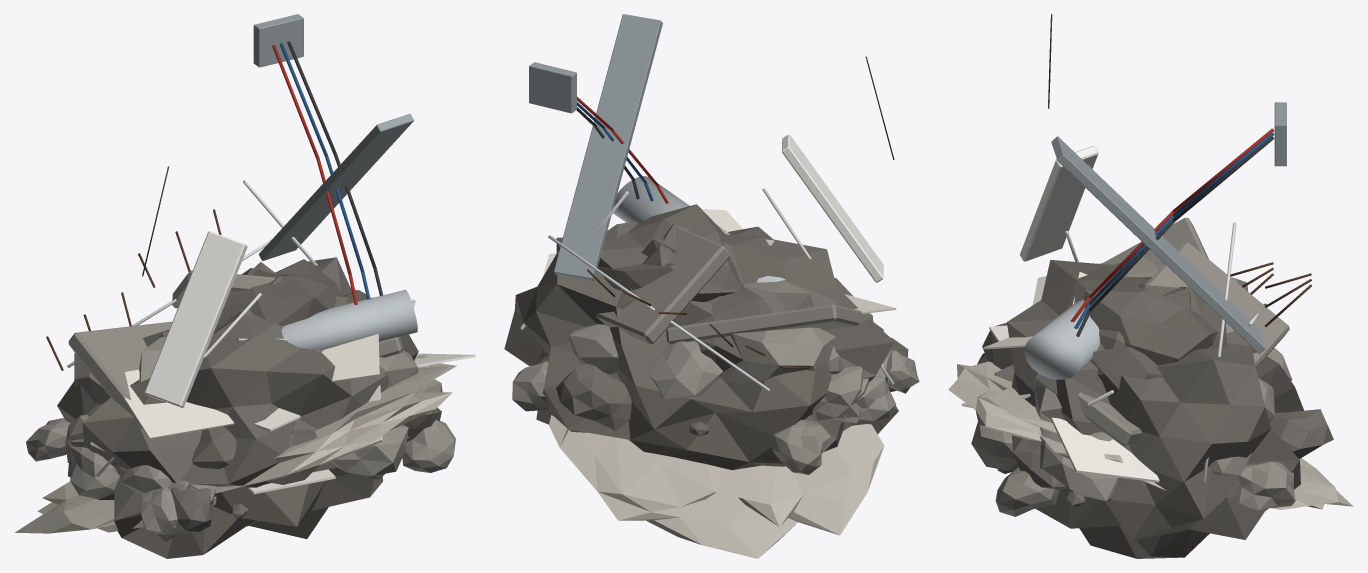
Rendered from ceiling_collapse.glb.
The picture shows the model from 3 angles, left to right: view 1: azimuth 30°, elevation 25°; view 2: azimuth 150°, elevation 25°; view 3: azimuth 270°, elevation 25°; orthographic projection. The views are drawn at different scales.
Visible parts, largest first — view 1: Collapse_core, Collapse_skirt, Collapse_fitting, Collapse_duct, Collapse_tray, Collapse_rock15, Collapse_slab0, Collapse, Collapse_plaster1, Collapse_bracket, Collapse_rock23, Collapse_rock29 (+13 smaller); view 2: Collapse_core, Collapse_skirt, Collapse_tray, Collapse_slab2, Collapse_rock5, Collapse_rock15, Collapse_slab0, Collapse_rock24, Collapse_rock4, Collapse_fitting, Collapse_rock7, Collapse_duct (+10 smaller); view 3: Collapse_core, Collapse_rock15, Collapse_skirt, Collapse_tray, Collapse, Collapse_duct, Collapse_fitting, Collapse_slab2, Collapse_tile5, Collapse_rock22, Collapse_rock20, Collapse_rock24 (+13 smaller).
Boxes of the visible parts, x1,y1,x2,y2 form: Collapse_core: (57, 257, 418, 558); Collapse_skirt: (15, 354, 456, 533); Collapse_fitting: (144, 231, 247, 407); Collapse_duct: (281, 289, 417, 349); Collapse_tray: (259, 114, 413, 260); Collapse_rock15: (214, 259, 343, 330); Collapse_slab0: (68, 321, 172, 428); Collapse: (46, 41, 387, 377); Collapse_plaster1: (124, 369, 234, 439); Collapse_bracket: (253, 14, 303, 67); Collapse_rock23: (331, 424, 408, 475); Collapse_rock29: (402, 420, 455, 472); Collapse_core: (504, 222, 898, 470); Collapse_skirt: (549, 415, 884, 558); Collapse_tray: (554, 14, 662, 280); Collapse_slab2: (596, 227, 729, 344); Collapse_rock5: (725, 327, 835, 383); Collapse_rock15: (598, 204, 741, 304); Collapse_slab0: (666, 304, 873, 344); Collapse_rock24: (556, 363, 631, 430); Collapse_rock4: (650, 341, 723, 399); Collapse_fitting: (782, 134, 883, 282); Collapse_rock7: (772, 419, 830, 474); Collapse_duct: (613, 176, 785, 282); Collapse_core: (982, 260, 1303, 558); Collapse_rock15: (1084, 277, 1218, 365); Collapse_skirt: (948, 361, 1353, 509); Collapse_tray: (1051, 136, 1265, 353); Collapse: (1070, 128, 1311, 336); Collapse_duct: (1024, 275, 1131, 379); Collapse_fitting: (1020, 145, 1098, 261); Collapse_slab2: (1145, 241, 1289, 367); Collapse_tile5: (1051, 417, 1159, 482); Collapse_rock22: (1233, 461, 1295, 510); Collapse_rock20: (1040, 432, 1120, 501); Collapse_rock24: (1269, 409, 1333, 458).
Size of the model in its own units: 3.06 by 3.41 by 2.66.
